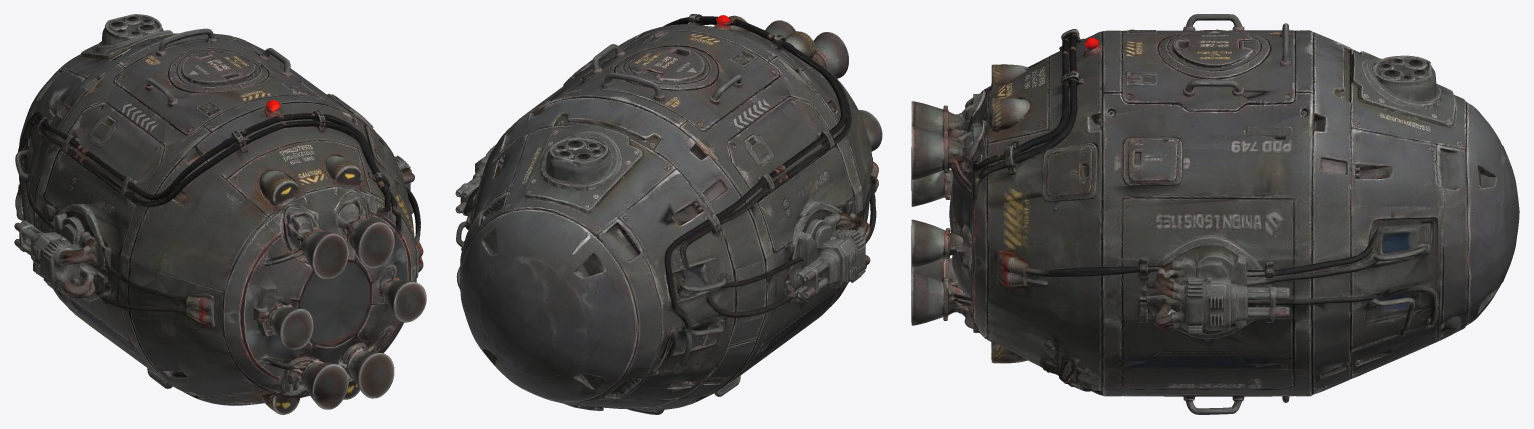
The model's file is phoenix.glb.
3 views of the same model, side by side, from view 1: azimuth 30°, elevation 25°; view 2: azimuth 150°, elevation 25°; view 3: azimuth 270°, elevation 25° (orthographic). The views are drawn at different scales.
Visible parts, largest first — view 1: phoenix; view 2: phoenix; view 3: phoenix.
Part boxes in pixels (x1,y1,x2,y2): phoenix: [14, 14, 426, 414]; phoenix: [455, 14, 882, 414]; phoenix: [911, 14, 1519, 414].
Size of the model in its own units: 1.47 by 1.25 by 1.9.
Materials: 1 (1 with a texture image).
